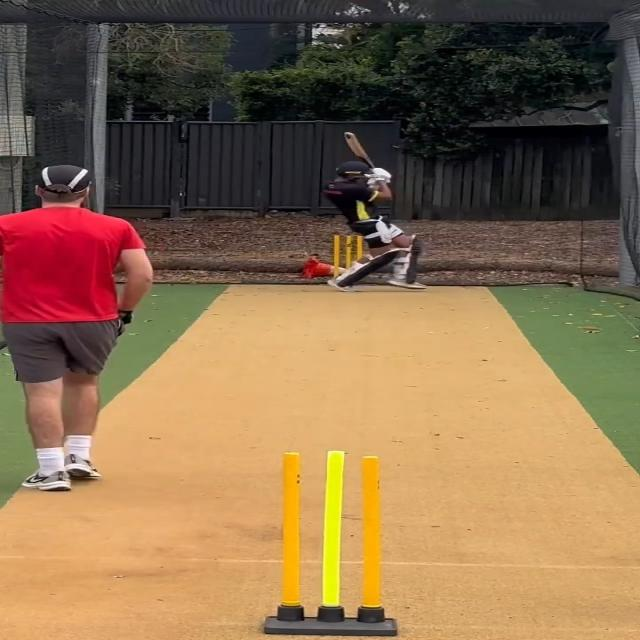stump: (263, 450, 396, 638)
